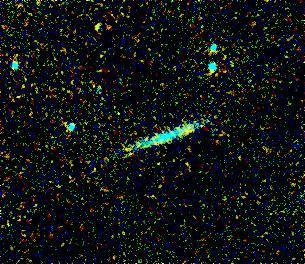star: (176, 114, 206, 144)
